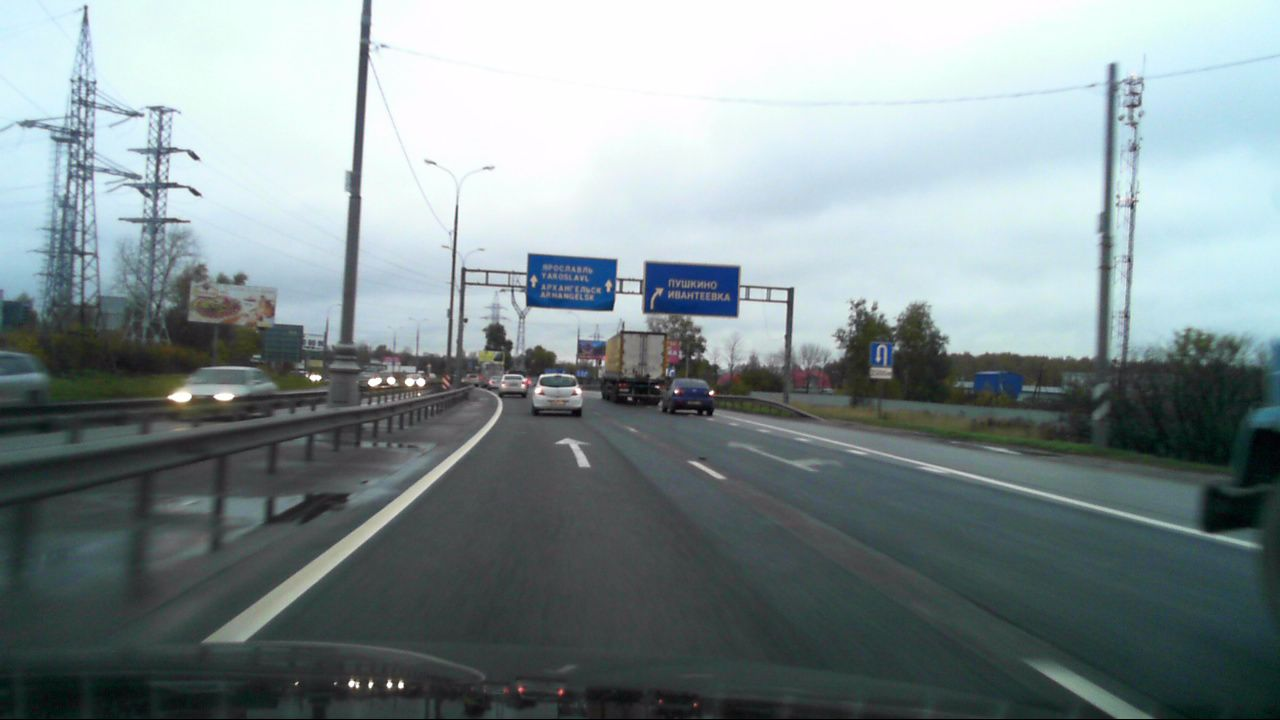U-turn: (869, 342, 892, 368)
